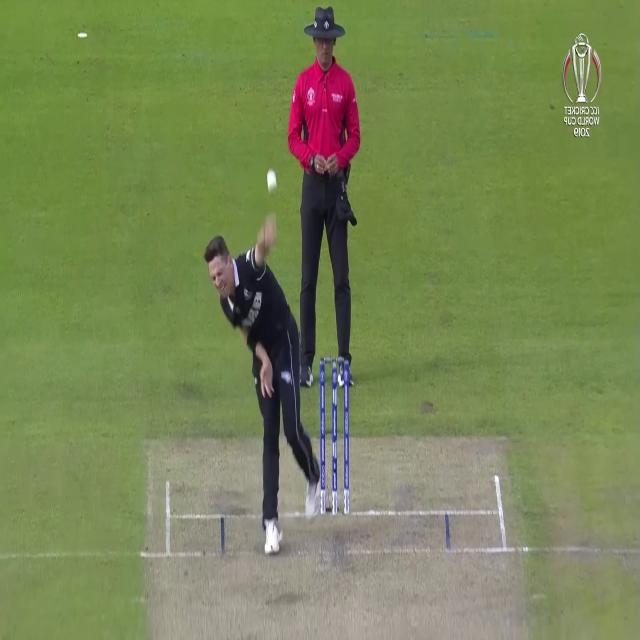ball: (263, 169, 279, 194)
